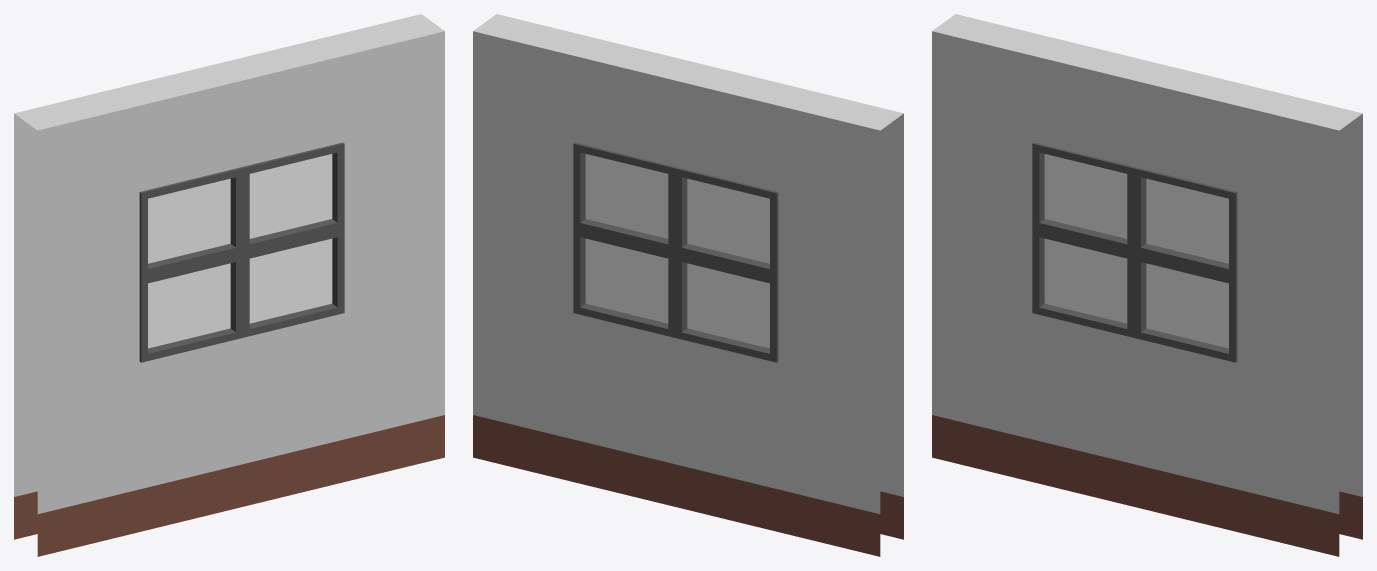
File: Wall_Window.fbx
3 renders of one model, left to right at view 1: azimuth 30°, elevation 25°; view 2: azimuth 150°, elevation 25°; view 3: azimuth 330°, elevation 25°, orthographic.
Parts seen in each view (by area): view 1: Wall_Window; view 2: Wall_Window; view 3: Wall_Window.
Boxes of the visible parts, box(x1,y1,x2,y2) form: Wall_Window: box(14, 14, 444, 556); Wall_Window: box(473, 14, 903, 556); Wall_Window: box(932, 14, 1362, 556).
Size of the model in its own units: 200 by 200 by 22.78.
